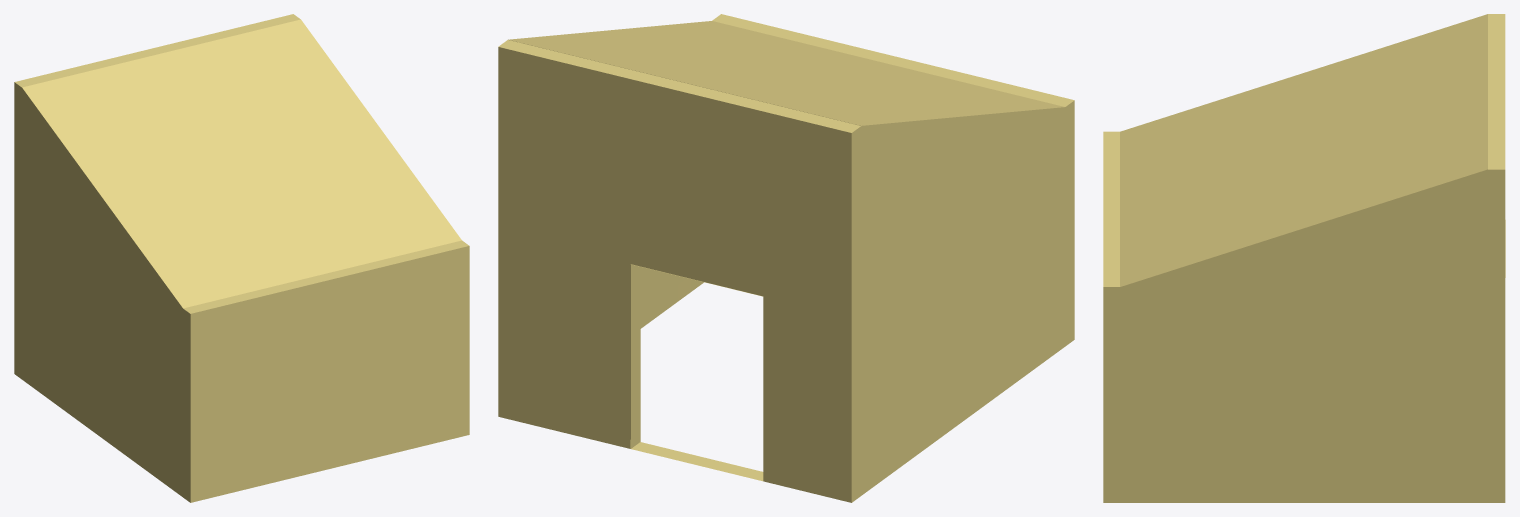
File: house no windows.fbx
3 renders of one model, left to right at view 1: azimuth 30°, elevation 25°; view 2: azimuth 150°, elevation 25°; view 3: azimuth 270°, elevation 25°, orthographic. The views are drawn at different scales.
Visible parts, largest first — view 1: Plane.001; view 2: Plane.001; view 3: Plane.001.
Part boxes in pixels (bbox=[...]): Plane.001: bbox=[14, 14, 469, 502]; Plane.001: bbox=[498, 14, 1074, 502]; Plane.001: bbox=[1103, 14, 1505, 502].
Bounding box in the file's own units: 870 × 870 × 952.
